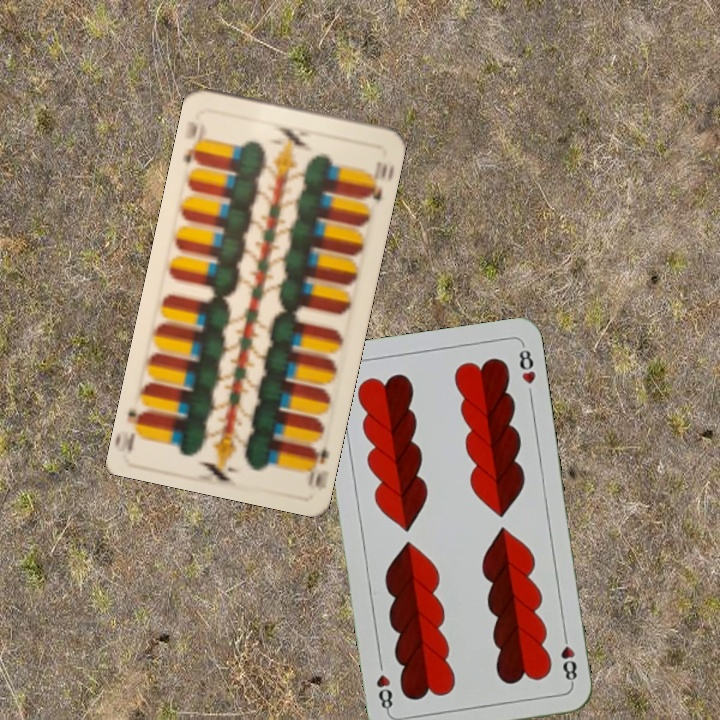E10: (303, 442, 332, 492), (179, 117, 207, 168)
H8: (557, 628, 579, 687)
